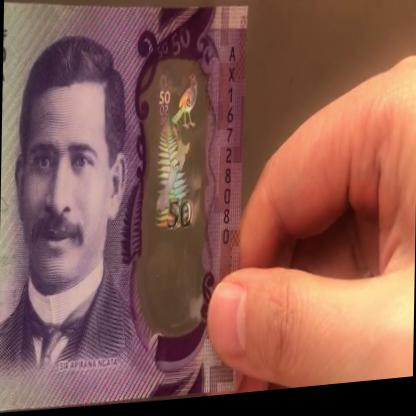50F: (148, 61, 202, 313)
